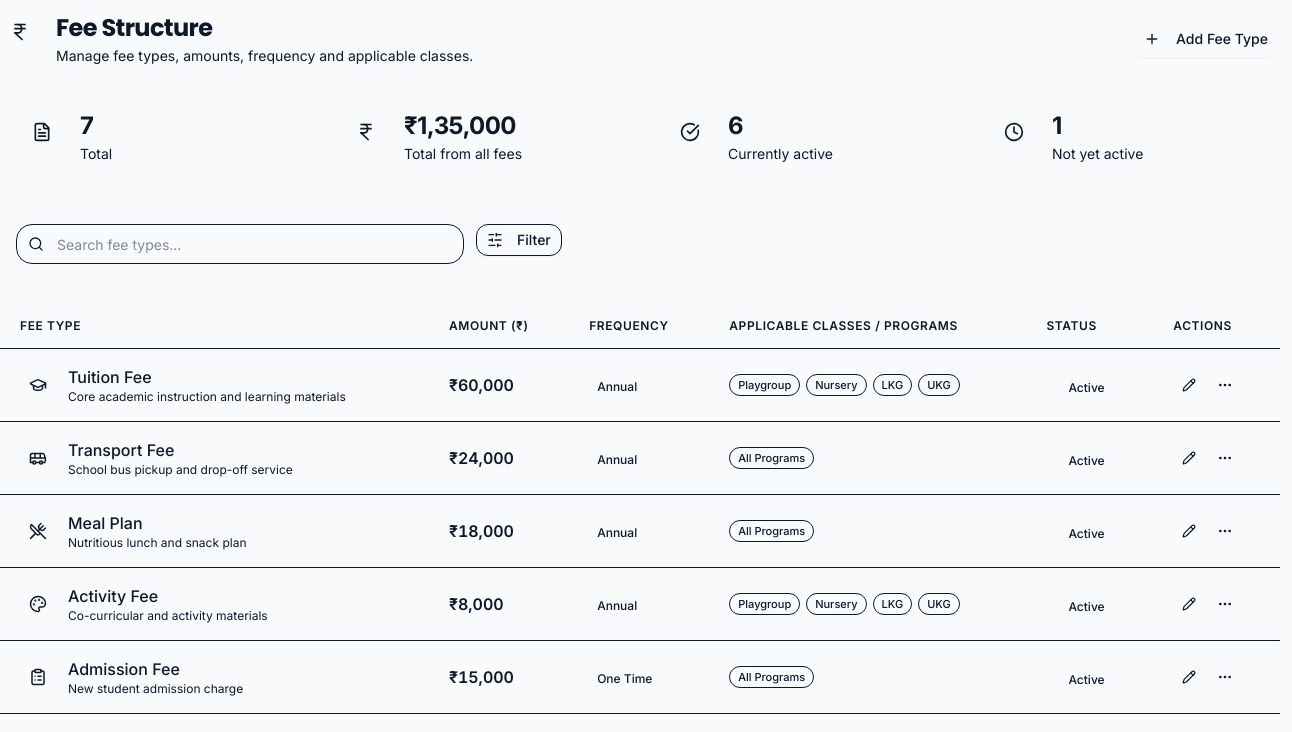
FeeStructurePage › shows empty state when search yields no results
This screenshot has width=1292, height=732.
Type "nonexistentfee" into the field with placeholder "Search fee types..." at (240, 244), box [16,224,464,264]
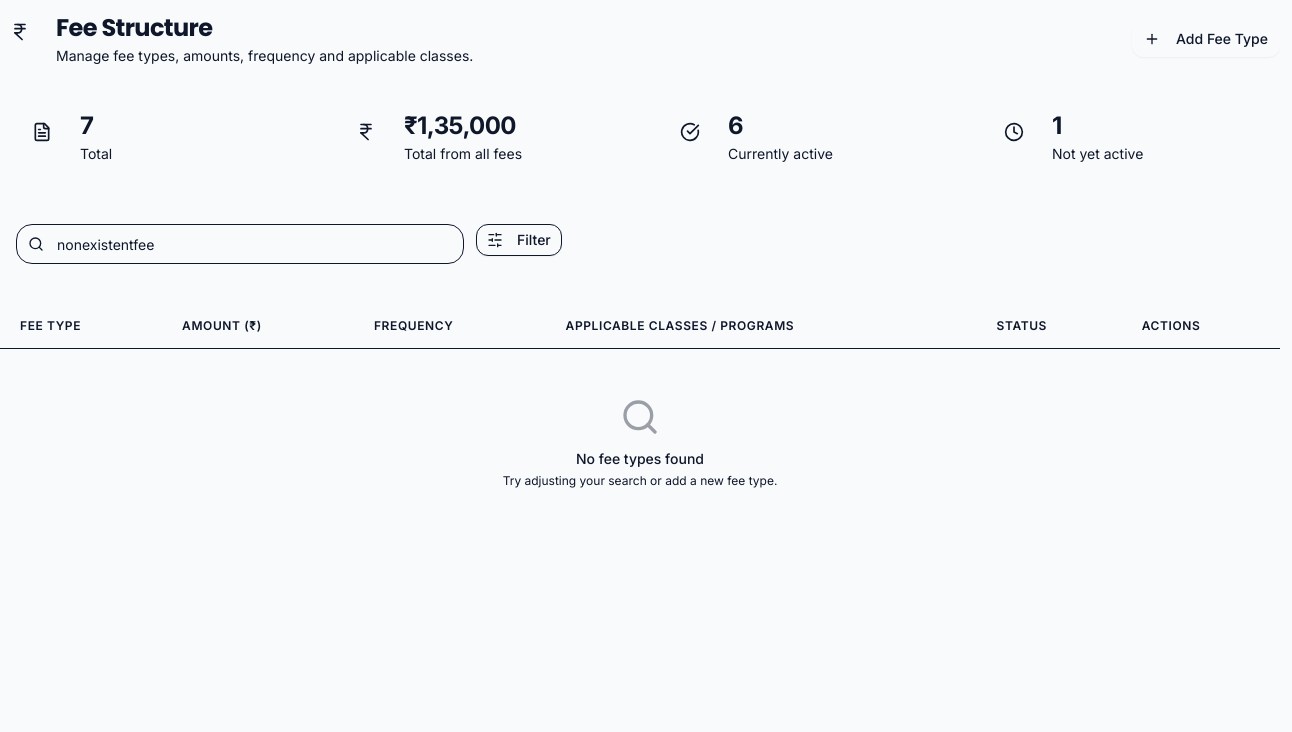
Now the text "No fee types found" is shown, box [576,450,704,467]
Now the text "Try adjusting your search or add a new fee type." is shown, box [503,473,777,488]
